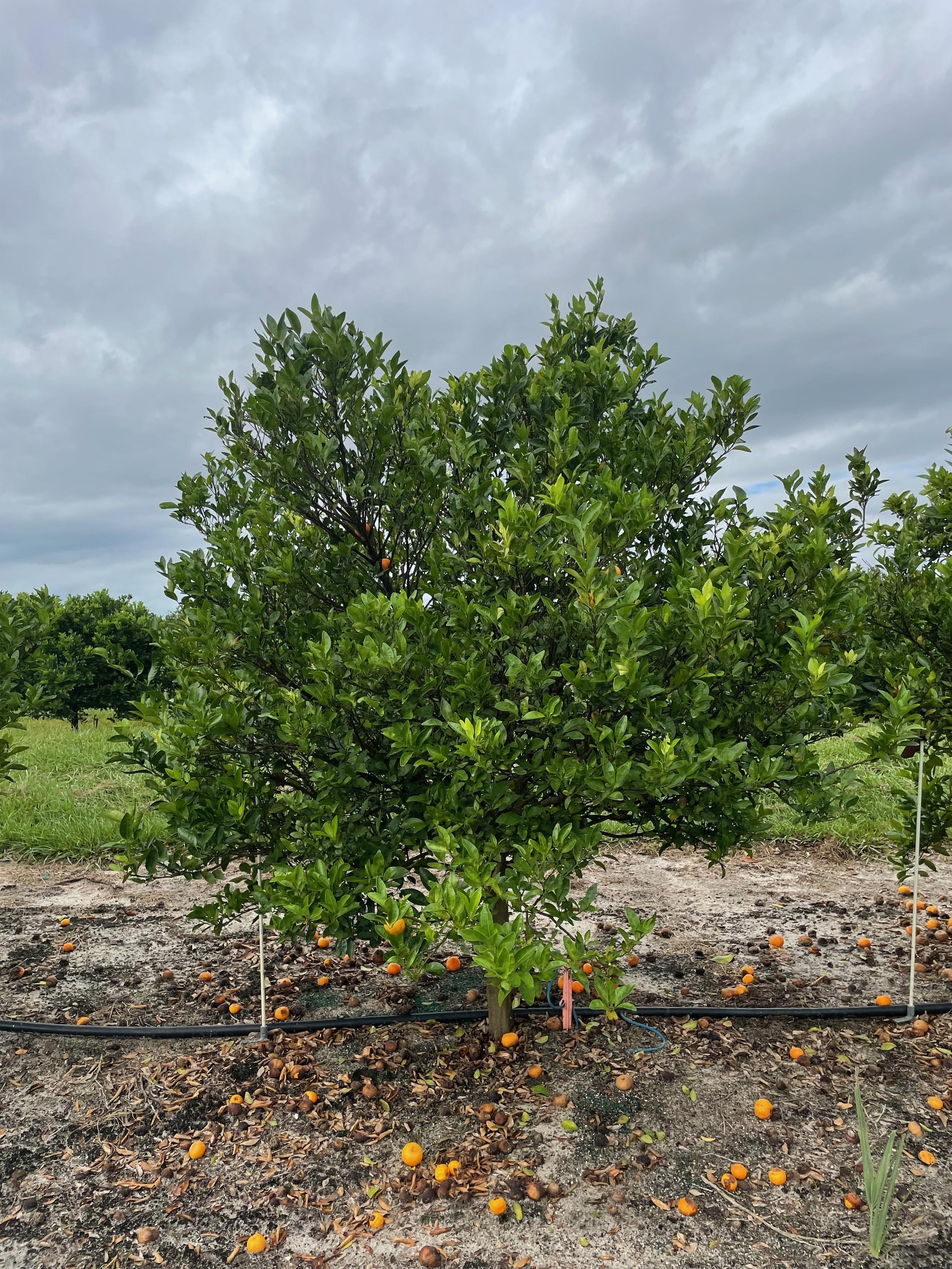fruit_on_ground: (382, 912, 407, 937), (352, 519, 374, 540), (376, 555, 395, 574)
fruit_on_tree: (400, 1140, 425, 1167), (245, 1231, 269, 1254), (417, 1245, 442, 1267), (135, 1224, 160, 1245), (677, 1194, 699, 1216), (753, 1097, 775, 1119), (766, 1165, 788, 1187), (499, 1029, 521, 1049), (186, 1139, 208, 1159), (842, 1190, 863, 1210), (432, 1162, 452, 1182), (488, 1195, 508, 1215), (524, 1181, 543, 1202), (729, 1160, 748, 1181), (917, 1147, 937, 1166), (719, 1172, 738, 1192), (614, 1072, 634, 1091), (910, 1017, 931, 1035), (905, 1119, 924, 1138), (525, 1061, 545, 1079), (544, 1182, 562, 1200), (551, 1089, 569, 1107), (444, 953, 462, 971), (287, 1063, 306, 1080), (361, 1082, 380, 1099), (793, 1052, 813, 1068), (370, 948, 388, 965), (225, 1091, 243, 1108), (926, 1093, 944, 1110), (544, 1015, 563, 1031), (902, 898, 922, 913), (464, 986, 481, 1003), (491, 1110, 509, 1126), (301, 1089, 319, 1105), (789, 1044, 806, 1060), (768, 932, 785, 948), (315, 935, 333, 950), (272, 1005, 290, 1020), (9, 964, 26, 979), (625, 951, 641, 966), (381, 1038, 398, 1052), (874, 993, 892, 1006), (579, 959, 594, 974), (737, 965, 753, 979), (569, 979, 585, 993), (385, 961, 401, 975), (912, 959, 927, 973), (733, 982, 748, 996), (925, 915, 940, 929), (912, 898, 928, 911), (278, 976, 294, 989), (75, 1014, 92, 1026), (696, 1016, 710, 1030), (340, 952, 354, 966), (600, 919, 615, 932), (791, 975, 806, 988), (44, 973, 59, 986), (211, 992, 226, 1005), (315, 974, 330, 987), (915, 931, 930, 944), (198, 969, 213, 982), (160, 967, 175, 980), (740, 970, 755, 983), (658, 927, 674, 939), (925, 903, 939, 916), (346, 994, 360, 1007), (935, 930, 949, 943), (594, 918, 609, 930), (228, 1002, 243, 1014), (857, 935, 872, 947), (719, 986, 733, 998), (897, 884, 912, 895), (320, 957, 333, 969), (904, 924, 917, 936), (679, 984, 692, 996), (61, 941, 74, 953), (808, 944, 821, 955), (60, 916, 72, 927)
